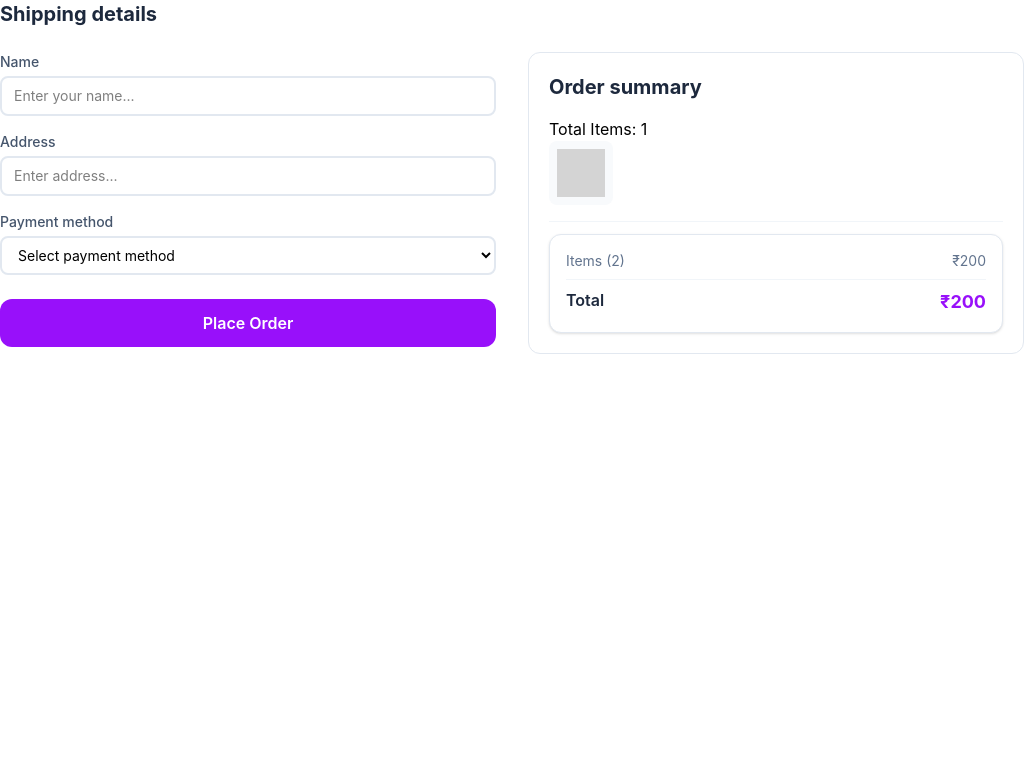
it: Checkout flow › cancels the order when Cancel is clicked in the confirmation dialog
The image size is (1024, 768).
Type "Sarah" into the field with placeholder "Enter your name...".
click(248, 96); type("Sarah")  # box [0,76,496,116]
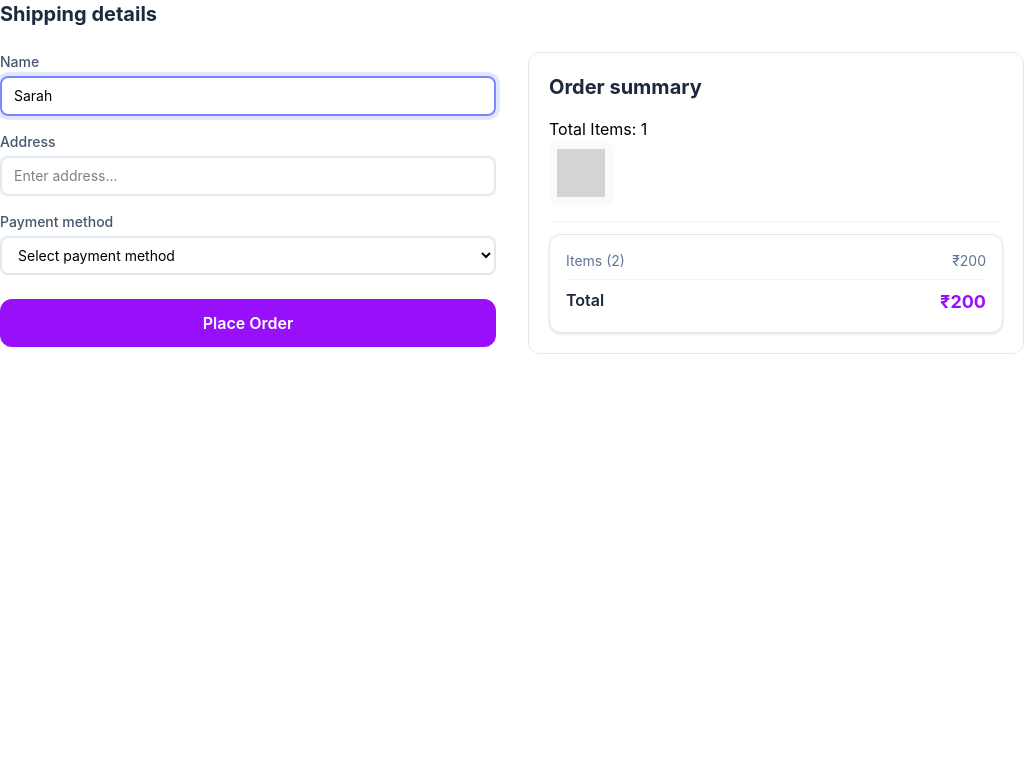
Type "123 Test St" into the field with placeholder "Enter address...".
click(248, 176); type("123 Test St")  # box [0,156,496,196]
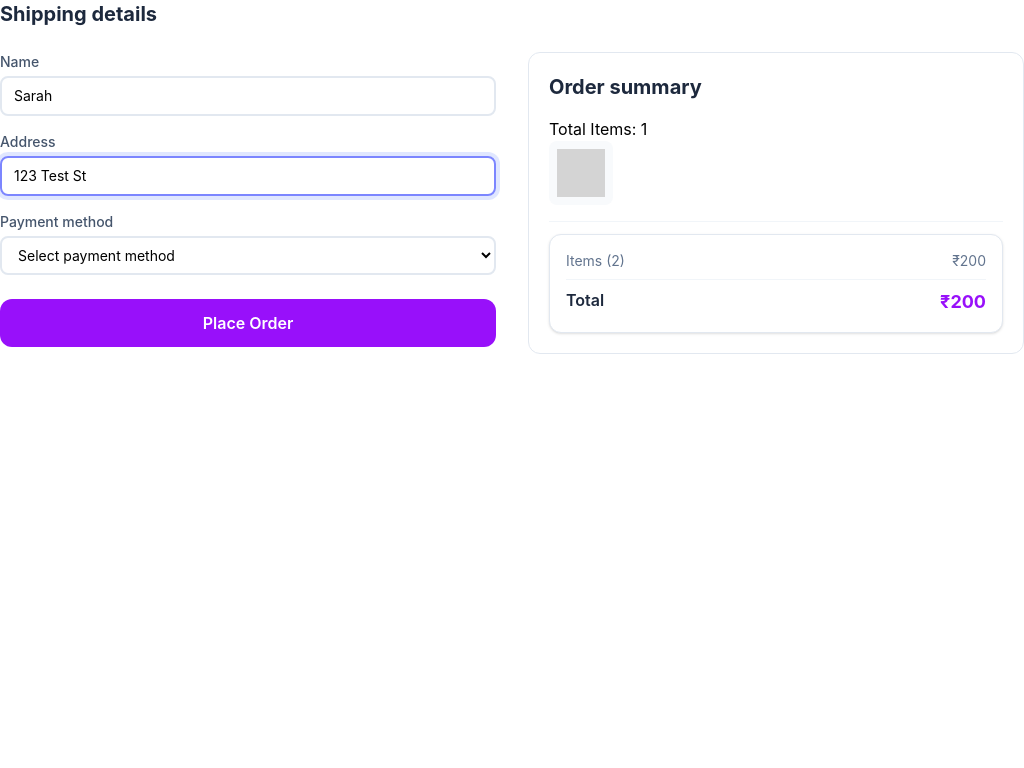
Select "UPI" in the dropdown at (248, 256), box [0,236,496,275]
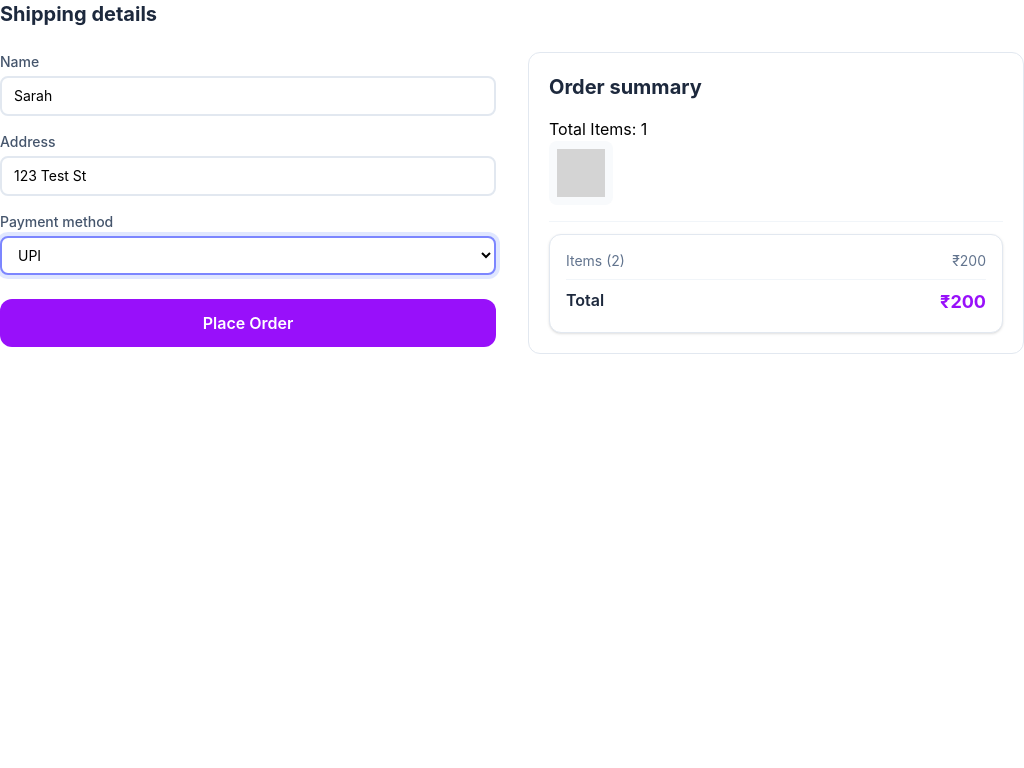
Click the button "Place Order".
click(248, 323)  # box [0,299,496,347]
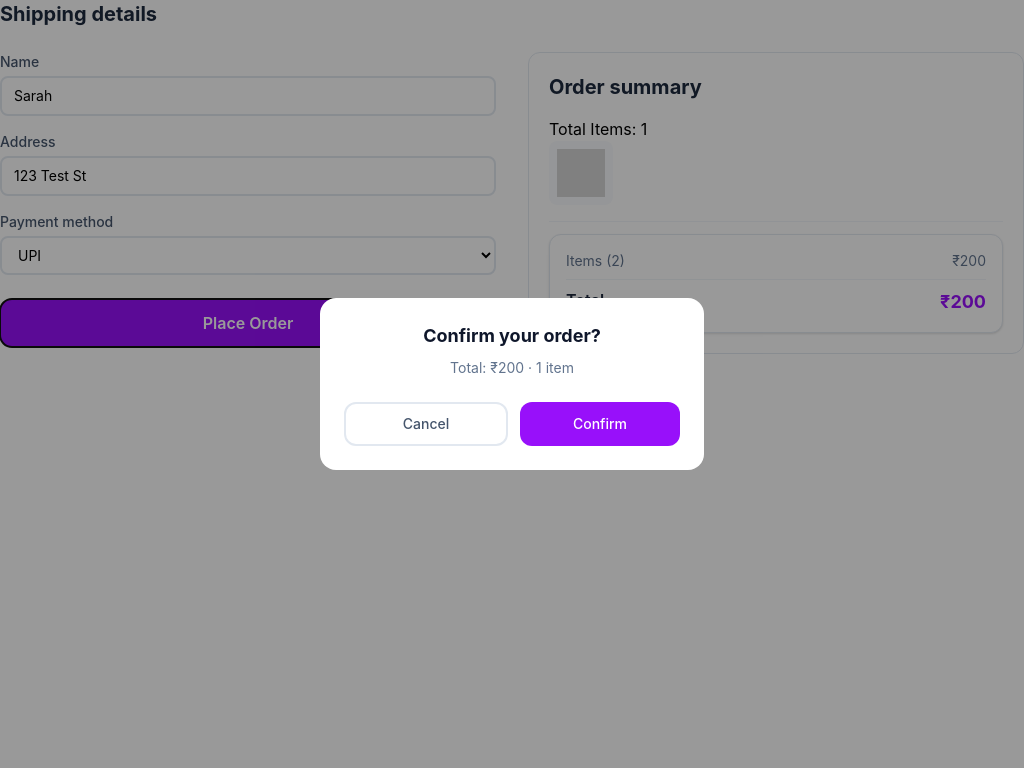
Click the button "Cancel".
click(426, 424)  # box [344,402,508,446]
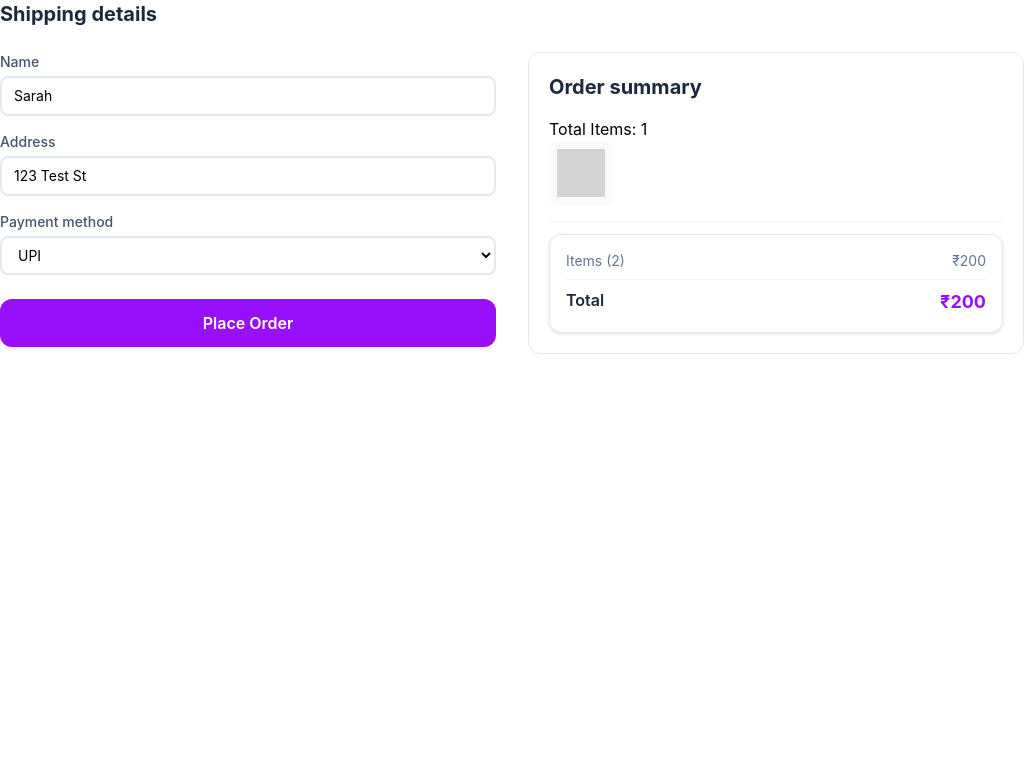
Now the heading "Confirm your order?" is gone
